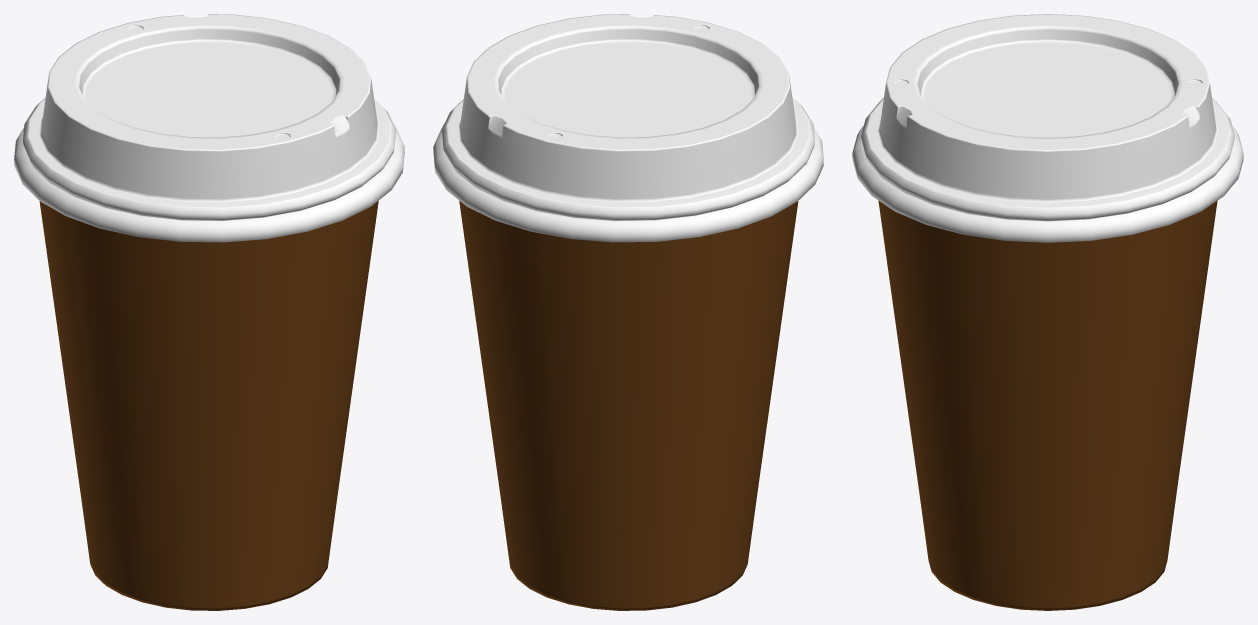
The model's file is TakeOutCoffee.obj.
3 renders of one model, left to right at view 1: azimuth 30°, elevation 25°; view 2: azimuth 150°, elevation 25°; view 3: azimuth 270°, elevation 25°, orthographic.
Visible parts, largest first — view 1: TakeoutCoffee; view 2: TakeoutCoffee; view 3: TakeoutCoffee.
Boxes of the visible parts, x1=… form: TakeoutCoffee: x1=14, y1=14, x2=404, y2=610; TakeoutCoffee: x1=433, y1=14, x2=823, y2=610; TakeoutCoffee: x1=852, y1=14, x2=1243, y2=610.
Size of the model in its own units: 3.89 by 5.24 by 3.89.
